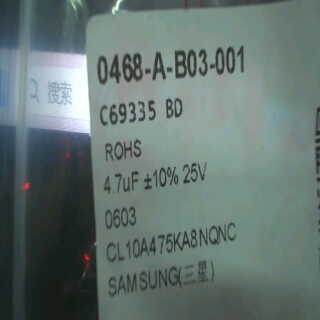4.7uF: (99, 167, 139, 201)
